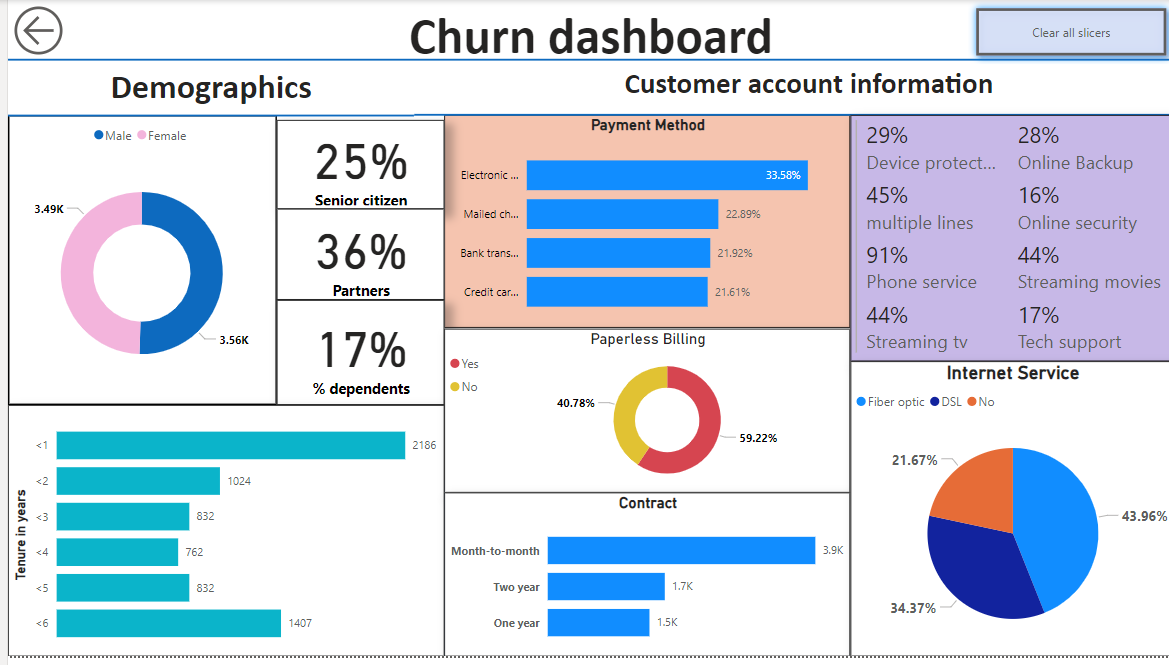

What the dashboard file says about the page in this screenshot:
{"tool":"powerbi","page":{"name":"Customer analytics","canvas":[1280,720],"ordinal":1},"visuals":[{"type":"donutChart","fields":{"Category":["01 Churn-Dataset.gender"],"Y":["CountNonNull(01 Churn-Dataset.gender)"]},"box":[0,126.2,295,318.4],"z":0},{"type":"clusteredBarChart","title":"Payment Method","fields":{"Y":["CountNonNull(01 Churn-Dataset.PaymentMethod)"],"Category":["01 Churn-Dataset.PaymentMethod"]},"box":[478.9,126.2,446,233.3],"z":1000},{"type":"card","title":"Senior citizen","fields":{"Values":["01 Churn-Dataset.% senior citizen"]},"box":[295,131.7,183.9,97.4],"z":2000},{"type":"card","fields":{"Values":["01 Churn-Dataset.% dependents"]},"box":[295,329.3,183.9,115.3],"z":3000},{"type":"card","title":"Partners","fields":{"Values":["01 Churn-Dataset.% partners"]},"box":[295,229.2,183.9,100.2],"z":4000},{"type":"textbox","box":[0,0,1280,80.7],"z":5000},{"type":"shape","box":[0,48.7,1280,35],"z":6000},{"type":"textbox","box":[0,67,445.9,59.4],"z":7000},{"type":"shape","box":[0,120.2,445.9,12.2],"z":8000},{"type":"clusteredBarChart","title":"Tenure","fields":{"Y":["CountNonNull(01 Churn-Dataset.Custom)"],"Category":["01 Churn-Dataset.Custom"]},"box":[0,444.6,478.9,275.8],"z":9000},{"type":"shape","box":[479.4,526.6,421.6,193.3],"z":10000},{"type":"textbox","box":[479.4,67,800.6,59.4],"z":11000},{"type":"shape","box":[445.9,86.8,834.1,79.1],"z":12000},{"type":"donutChart","title":"Paperless Billing","fields":{"Category":["01 Churn-Dataset.PaperlessBilling"],"Y":["CountNonNull(01 Churn-Dataset.PaperlessBilling)"]},"box":[478.9,360.9,446,179.8],"z":13000},{"type":"clusteredBarChart","title":"Contract","fields":{"Category":["01 Churn-Dataset.Contract"],"Y":["CountNonNull(01 Churn-Dataset.Contract)"]},"box":[478.9,540.7,446,179.8],"z":14000},{"type":"multiRowCard","fields":{"Values":["01 Churn-Dataset.% Device protection","01 Churn-Dataset.% Oniline Backup","01 Churn-Dataset.% multiple lines","01 Churn-Dataset.% Oniline security","01 Churn-Dataset.% Phone service","01 Churn-Dataset.% Streaming movies","01 Churn-Dataset.% Streaming tv","01 Churn-Dataset.% Tech support"]},"box":[924.9,126.2,355.4,270.3],"z":15000},{"type":"pieChart","title":"Internet Service","fields":{"Category":["01 Churn-Dataset.InternetService"],"Y":["CountNonNull(01 Churn-Dataset.InternetService)"]},"box":[924.9,396.6,355.4,323.8],"z":16000},{"type":"actionButton","box":[0,0,112.6,67],"z":17000},{"type":"actionButton","box":[1053.2,0,226.8,70],"z":18000}]}

Visuals, with their boxes in screenshot pixels (x1, y1, x2, y2), scaled from the page's 1280x720 canvas onto the 1169x665 screenshot:
donutChart - 01 Churn-Dataset.gender x CountNonNull(01 Churn-Dataset.gender): crop(0, 117, 269, 411)
"Payment Method" clusteredBarChart: crop(437, 117, 845, 332)
"Senior citizen" card: crop(269, 122, 437, 212)
card - 01 Churn-Dataset.% dependents: crop(269, 304, 437, 411)
"Partners" card: crop(269, 212, 437, 304)
textbox: crop(0, 0, 1168, 75)
shape: crop(0, 45, 1168, 77)
textbox: crop(0, 62, 407, 117)
shape: crop(0, 111, 407, 122)
"Tenure" clusteredBarChart: crop(0, 411, 437, 664)
shape: crop(438, 486, 823, 664)
textbox: crop(438, 62, 1168, 117)
shape: crop(407, 80, 1168, 153)
"Paperless Billing" donutChart: crop(437, 333, 845, 499)
"Contract" clusteredBarChart: crop(437, 499, 845, 664)
multiRowCard - 01 Churn-Dataset.% Device protection x 01 Churn-Dataset.% Oniline Backup: crop(845, 117, 1168, 366)
"Internet Service" pieChart: crop(845, 366, 1168, 664)
actionButton: crop(0, 0, 103, 62)
actionButton: crop(962, 0, 1168, 65)
